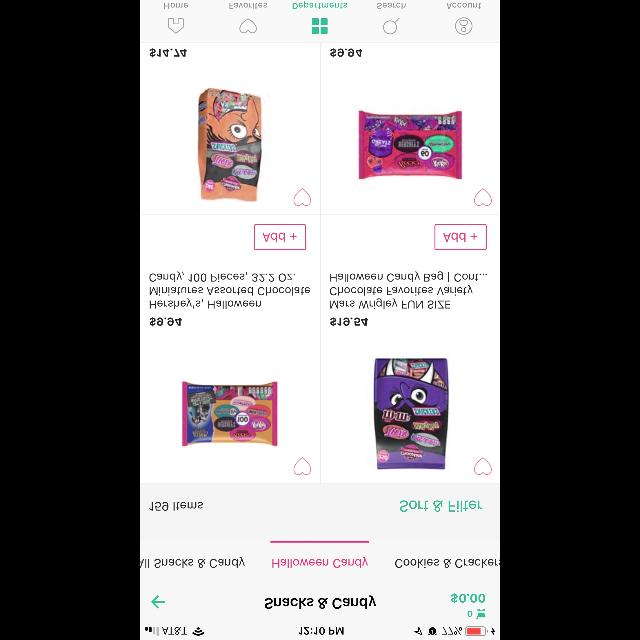icon: (294, 457, 312, 475), (474, 188, 492, 206), (474, 458, 492, 474), (294, 188, 310, 206), (382, 18, 400, 34), (168, 18, 184, 34), (240, 18, 256, 34), (312, 18, 328, 34), (456, 18, 472, 34), (152, 596, 166, 608), (476, 608, 486, 620)
image: (374, 358, 448, 470), (198, 88, 262, 202), (359, 110, 463, 180), (182, 382, 278, 446)
text: (150, 271, 310, 309), (330, 271, 488, 309), (264, 595, 376, 609), (141, 556, 245, 568), (272, 556, 368, 568), (396, 558, 500, 568), (400, 500, 482, 512), (149, 502, 203, 511), (292, 1, 348, 9), (451, 592, 485, 604), (330, 317, 368, 327), (150, 48, 187, 58), (150, 317, 182, 327), (330, 48, 362, 58), (229, 2, 267, 10), (446, 3, 482, 9), (377, 3, 405, 9), (164, 3, 188, 9), (468, 611, 472, 617)
textbutton: (254, 224, 306, 250), (435, 224, 487, 250)
uppertaskbar: (140, 626, 500, 640)
